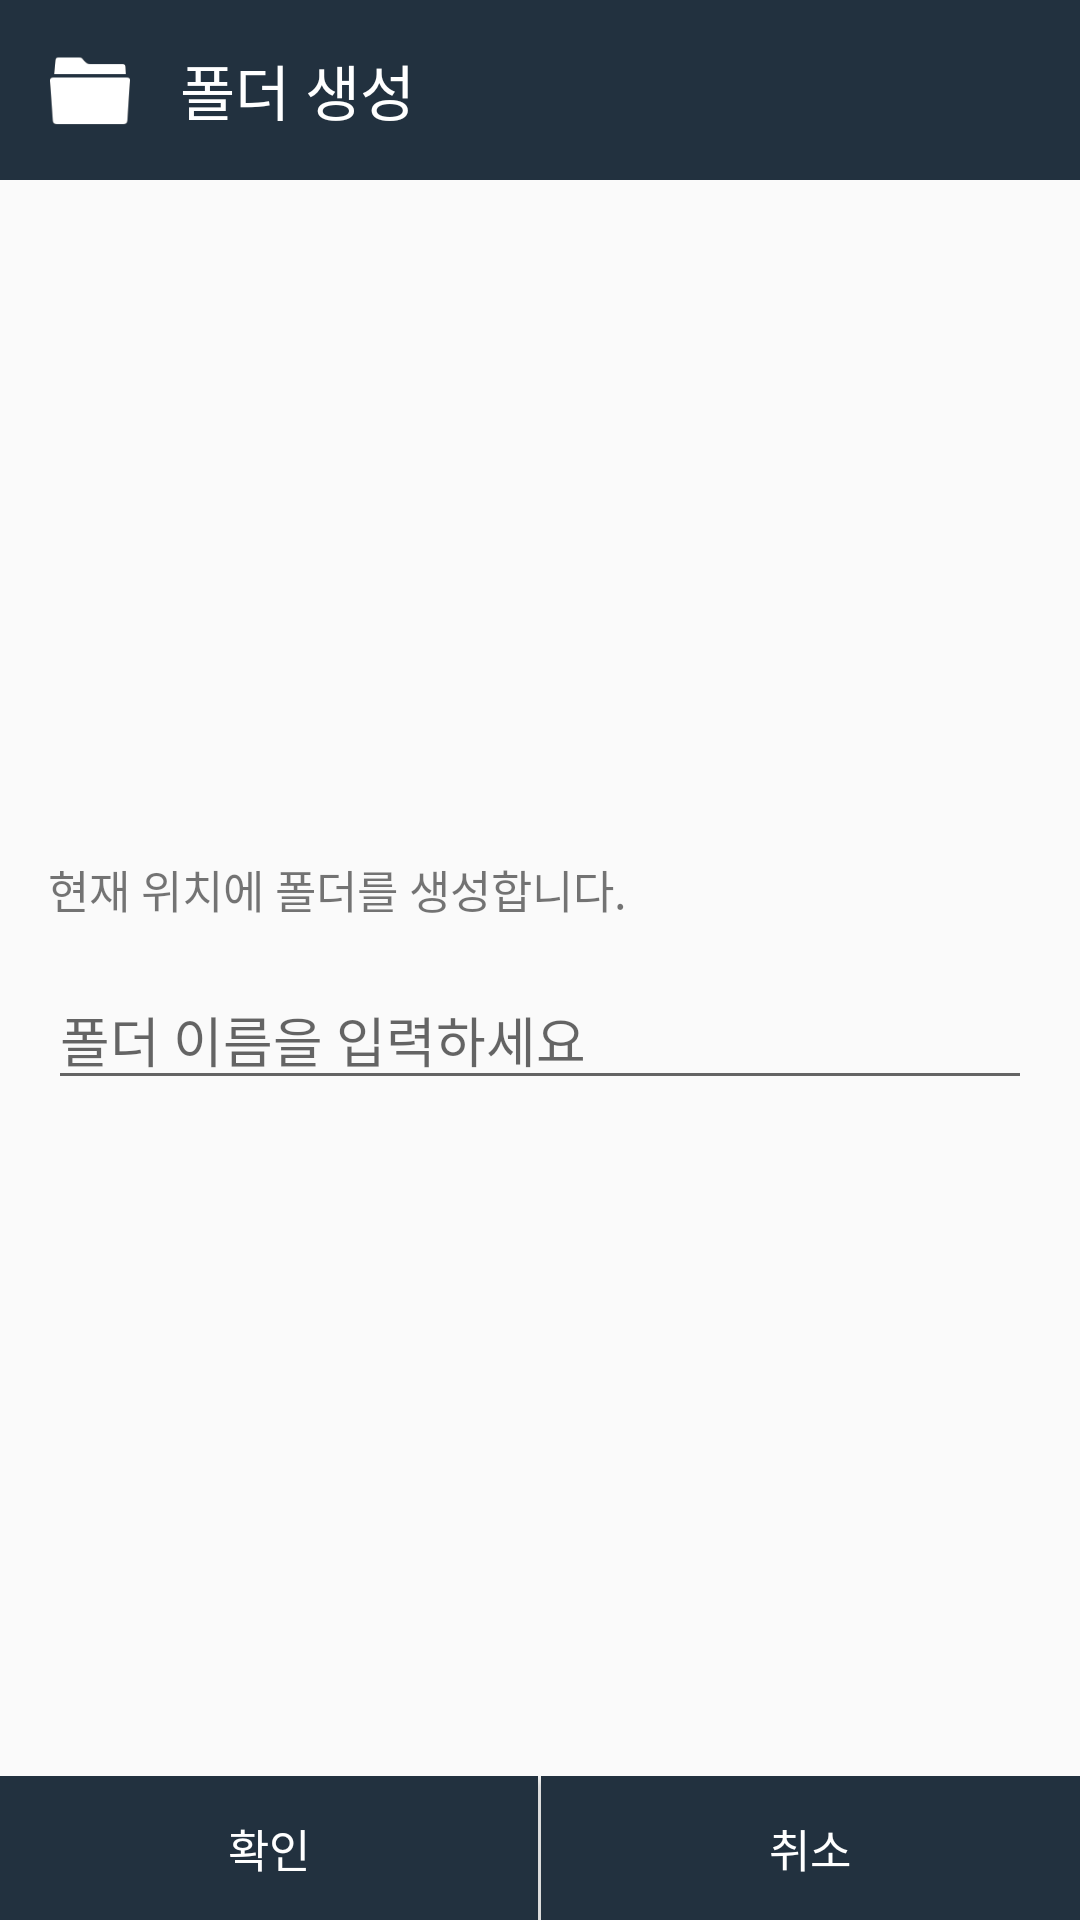

Where icons sit on this 1080 x 1920 app screen, as {"x1": x1, "y1": y1, "x2": x2, "y2": y2}:
folder: {"x1": 50, "y1": 57, "x2": 130, "y2": 124}
